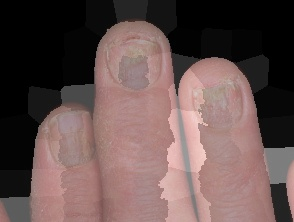Nail_psoriasis: (87, 10, 180, 110), (24, 92, 115, 186), (177, 58, 257, 142)
